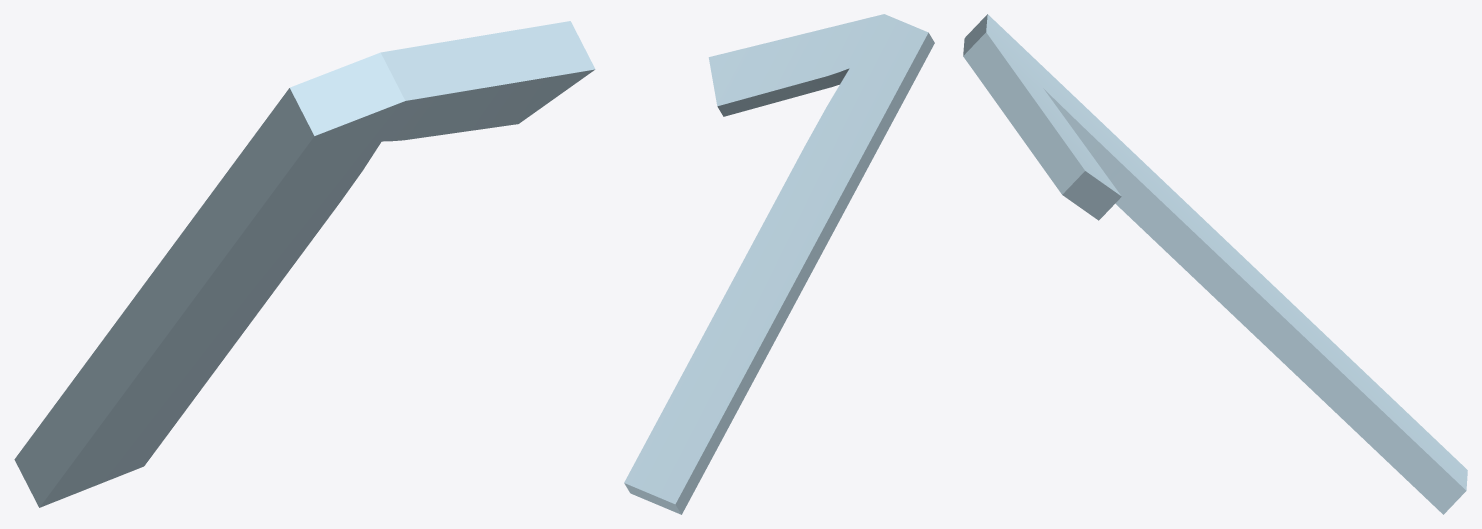
Rendered from Number_1.gltf.
3 views of the same model, side by side, from view 1: azimuth 30°, elevation 25°; view 2: azimuth 150°, elevation 25°; view 3: azimuth 270°, elevation 25° (orthographic). The views are drawn at different scales.
Visible parts, largest first — view 1: Sub_5_Cell_2_1_Number_1; view 2: Sub_5_Cell_2_1_Number_1; view 3: Sub_5_Cell_2_1_Number_1.
Part boxes in pixels (left/top/right/bottom): Sub_5_Cell_2_1_Number_1: left=14, top=21, right=595, bottom=507; Sub_5_Cell_2_1_Number_1: left=624, top=14, right=934, bottom=514; Sub_5_Cell_2_1_Number_1: left=963, top=14, right=1467, bottom=514.
Bounding box in the file's own units: 0.00973 × 0.0187 × 0.0189.
